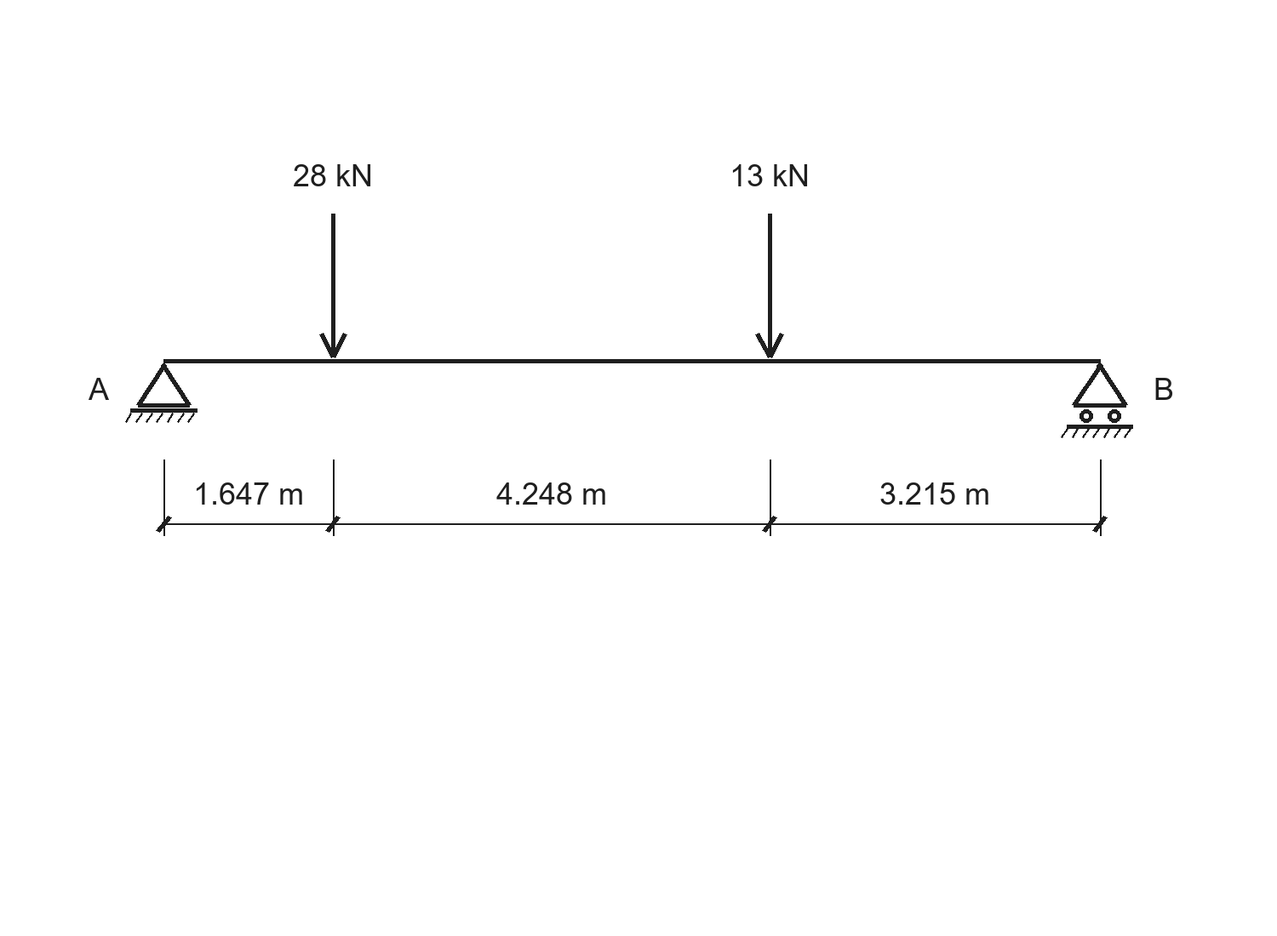pin_support: (125, 363, 198, 423)
point_load: (755, 214, 784, 358), (319, 214, 347, 358)
roller_support: (1061, 363, 1133, 438)
